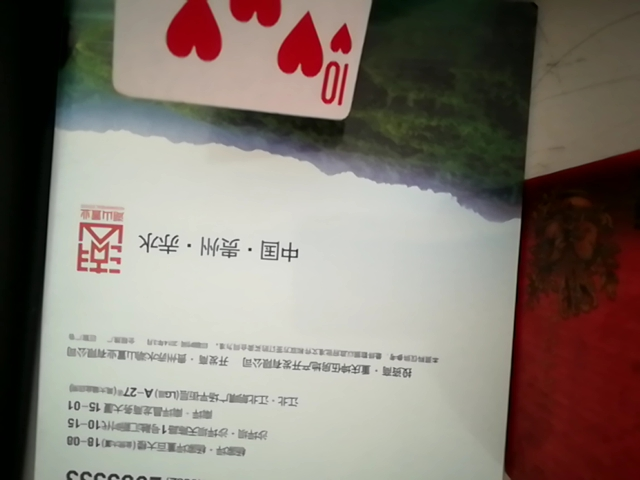hx 10: (105, 2, 414, 128)
